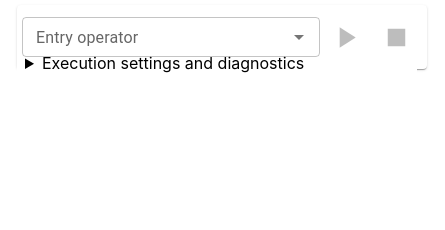
SimulatorControls › offers only entry-capable operators, sorted by name
The width and height of the screenshot is (445, 230).
Press the mouse on the dropdown at (154, 37), box [28,23,281,51]
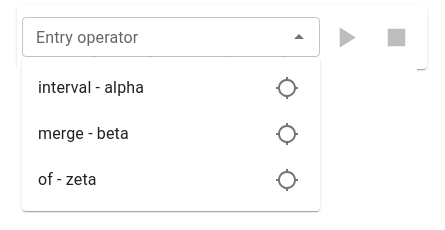
Check: the options read "interval - alpha", "merge - beta", "of - zeta", in this order, box [22,65,320,111]; [22,111,320,157]; [22,157,320,203]
